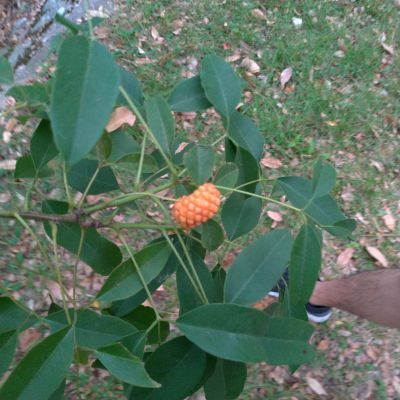eggs: (168, 179, 228, 224)
